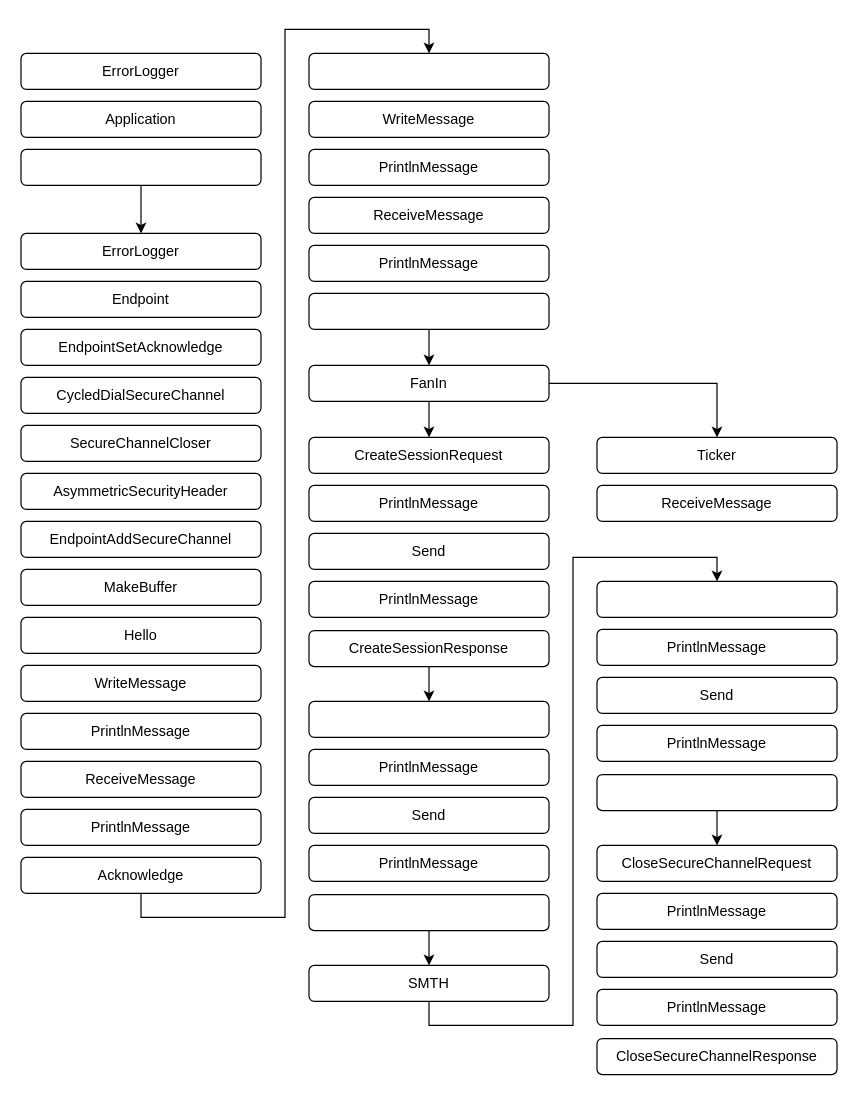
Image size: 858x1096. Some labels were removed from this diagram. Each missing label, with the centre of its shape:
"ActivateSessionRequest" belongs at (x=428, y=718).
"ActivateSessionResponse" belongs at (x=428, y=912).
"Async" belongs at (x=140, y=166).
"CloseSessionRequest" belongs at (x=716, y=598).
"CloseSessionResponse" belongs at (x=716, y=792).
"OpenSecureChannelRequest" belongs at (x=428, y=70).
"OpenSecureChannelResponse" belongs at (x=428, y=310).
